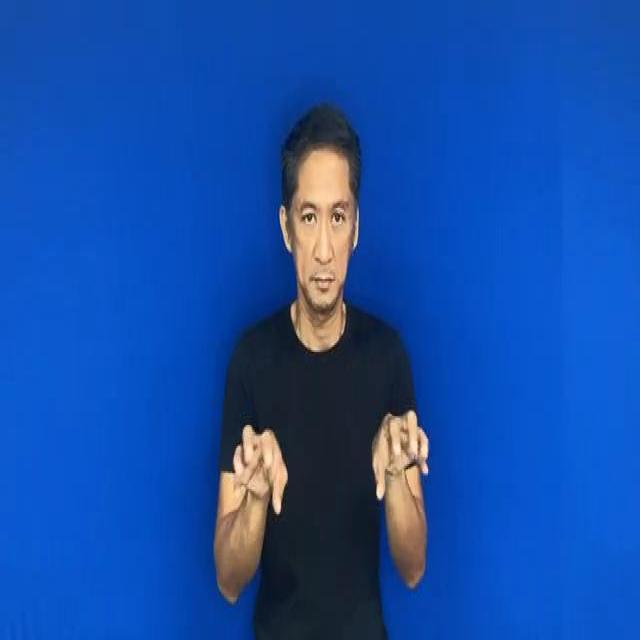egg: (221, 408, 446, 524)
